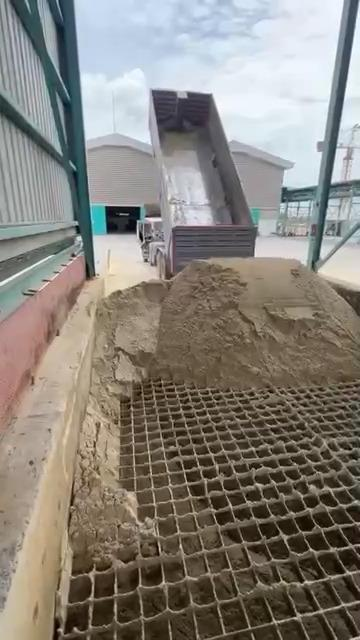sand: (71, 258, 360, 569)
